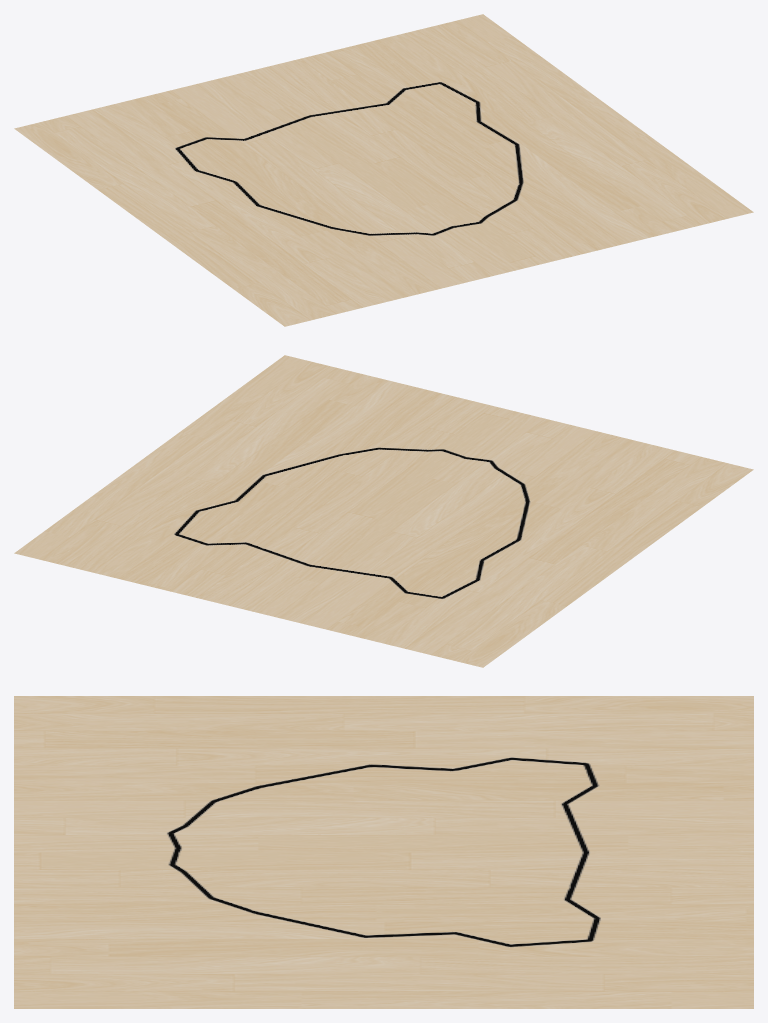
File: Bear_01.fbx
3 views of the same model, one above another, from view 1: azimuth 30°, elevation 25°; view 2: azimuth 150°, elevation 25°; view 3: azimuth 270°, elevation 25° (orthographic). The views are drawn at different scales.
Visible parts, largest first — view 1: pPlane1; view 2: pPlane1; view 3: pPlane1.
Boxes of the visible parts, bbox=[...] form: pPlane1: bbox=[14, 14, 753, 326]; pPlane1: bbox=[14, 355, 753, 667]; pPlane1: bbox=[14, 696, 753, 1008].
Bounding box in the file's own units: 100 × 0 × 100.
1 material, 1 textured.
